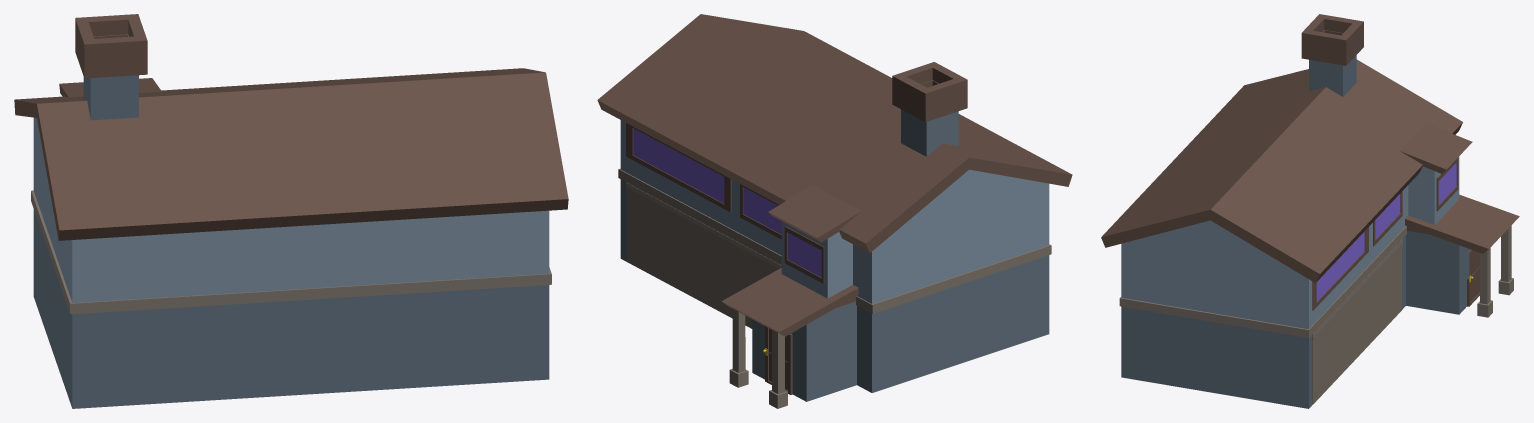
The model's file is CALLE7_CASA2_031.fbx.
3 renders of one model, left to right at view 1: azimuth 30°, elevation 25°; view 2: azimuth 150°, elevation 25°; view 3: azimuth 270°, elevation 25°, orthographic. The views are drawn at different scales.
Visible parts, largest first — view 1: CASA2.031; view 2: CASA2.031; view 3: CASA2.031.
Part boxes in pixels (left/top/right/bottom): CASA2.031: left=14, top=14, right=568, bottom=408; CASA2.031: left=597, top=14, right=1072, bottom=408; CASA2.031: left=1101, top=14, right=1519, bottom=408.
Size of the model in its own units: 1144 by 680 by 1072.
